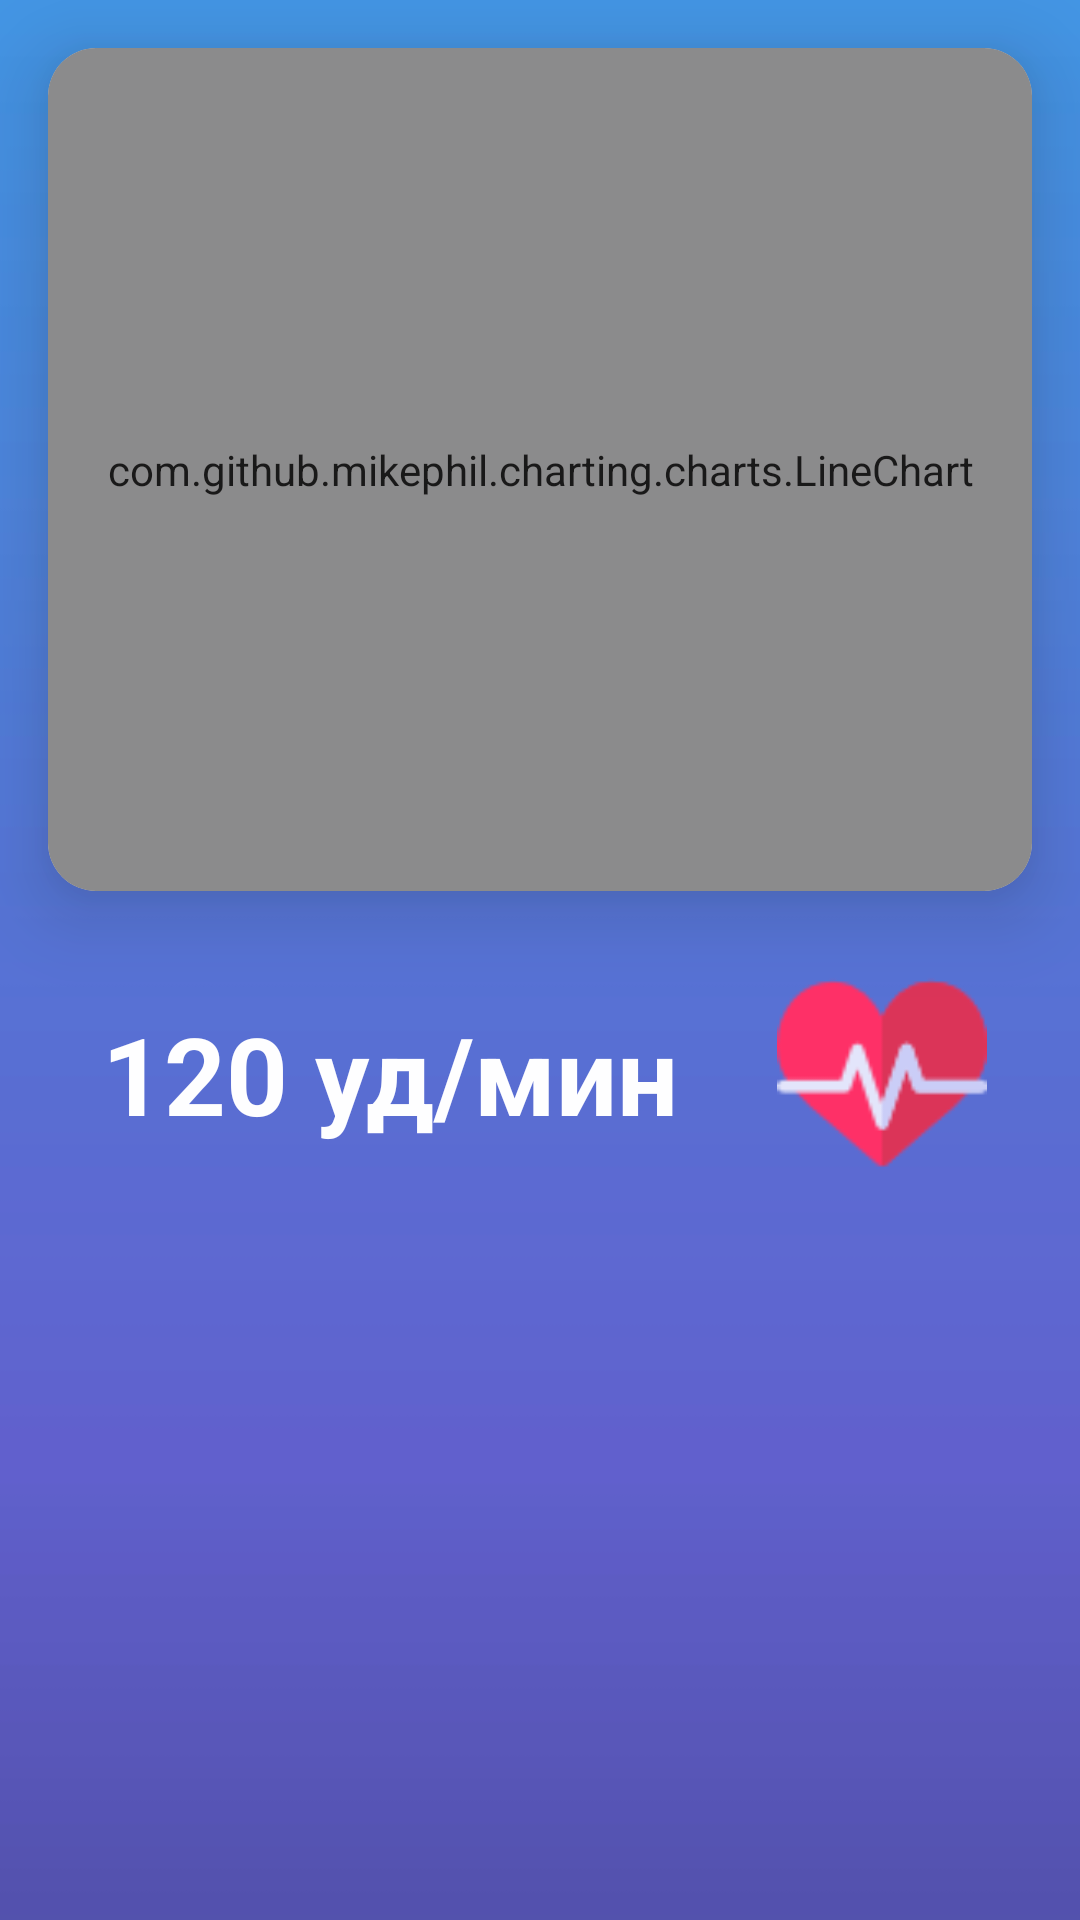

Where to tap for icons on this 1080px×1920px app screen, as [x,y]:
pulse: [882,1074]
